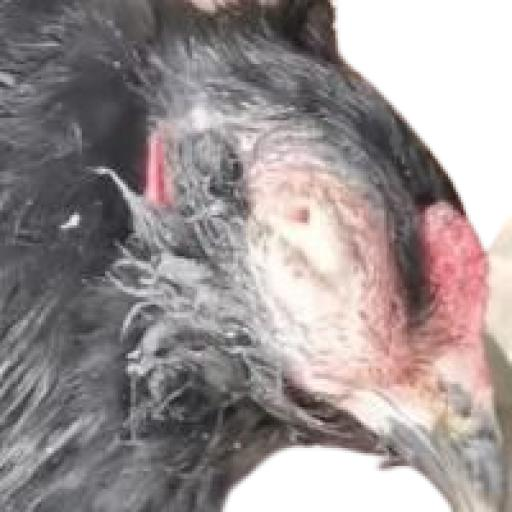disease: (221, 133, 390, 350)
